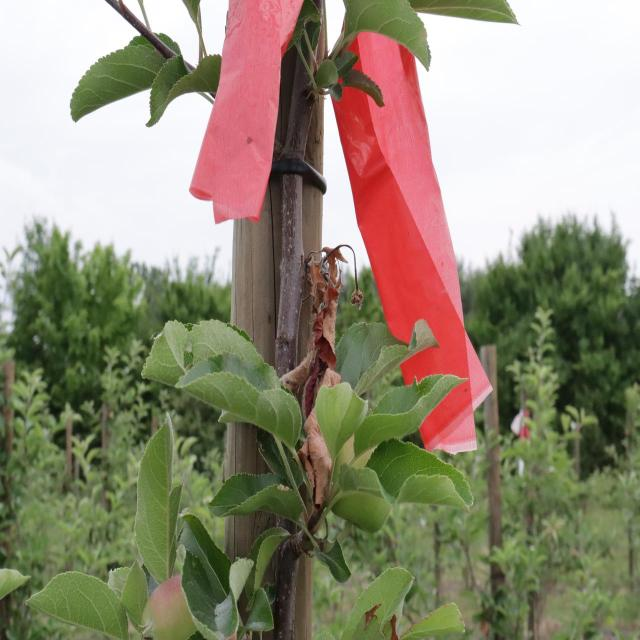-FireBlight-: (286, 237, 344, 505)
